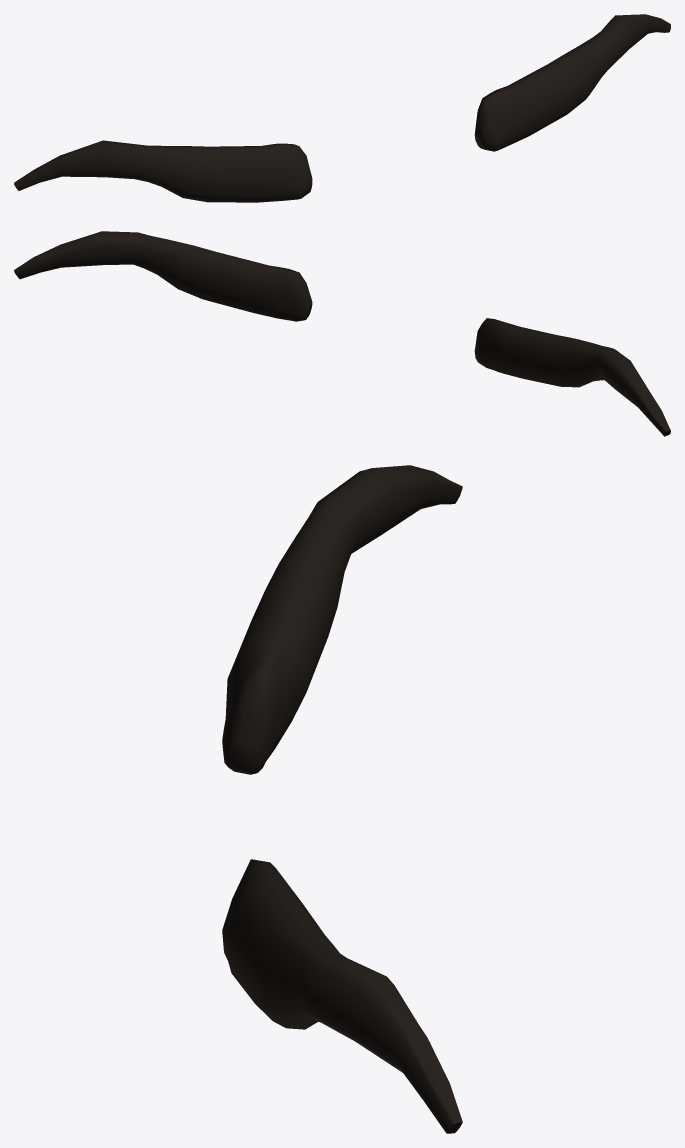
File: Eyebrows_06_01.fbx
3 views of the same model, one above another, from view 1: azimuth 30°, elevation 25°; view 2: azimuth 150°, elevation 25°; view 3: azimuth 270°, elevation 25° (orthographic). The views are drawn at different scales.
Visible parts, largest first — view 1: Eyebrows_06_01; view 2: Eyebrows_06_01; view 3: Eyebrows_06_01.
Part boxes in pixels (<box>): Eyebrows_06_01: <box>14,14,670,202</box>; Eyebrows_06_01: <box>14,231,670,436</box>; Eyebrows_06_01: <box>222,465,462,1133</box>.
Size of the model in its own units: 19.46 by 2.04 by 3.09.
